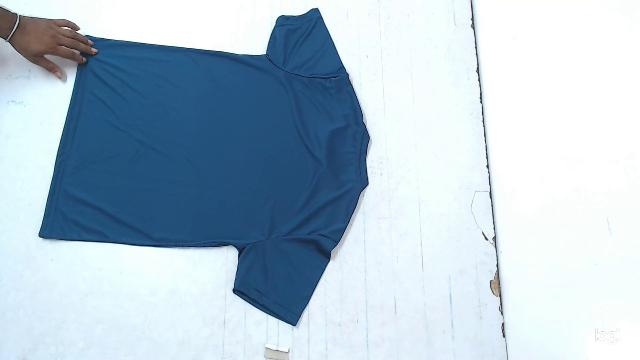new-garment: (39, 9, 369, 325)
